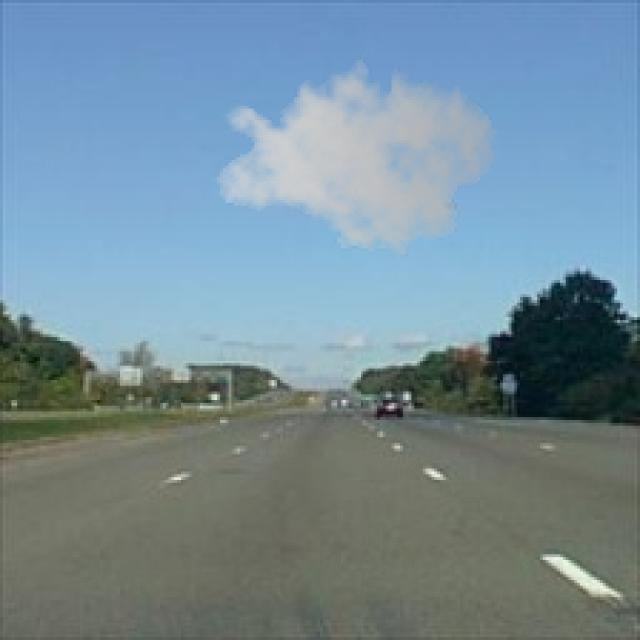smoke: (214, 48, 497, 263)
